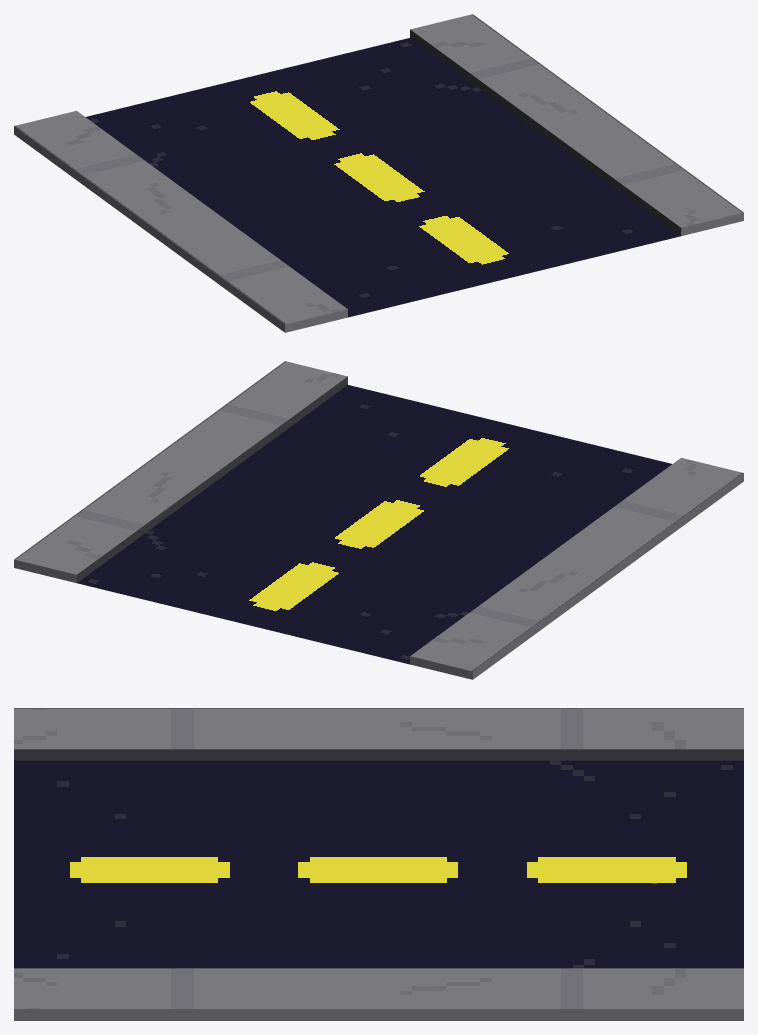
Rendered from Road.fbx.
The picture shows the model from 3 angles, top to bottom: view 1: azimuth 30°, elevation 25°; view 2: azimuth 150°, elevation 25°; view 3: azimuth 270°, elevation 25°; orthographic projection. The views are drawn at different scales.
Parts seen in each view (by area): view 1: Road; view 2: Road; view 3: Road.
Part boxes in pixels (x1=…): Road: x1=14, y1=14, x2=743, y2=332; Road: x1=14, y1=361, x2=743, y2=679; Road: x1=14, y1=708, x2=743, y2=1020.
Bounding box in the file's own units: 195 × 3.41 × 200.
